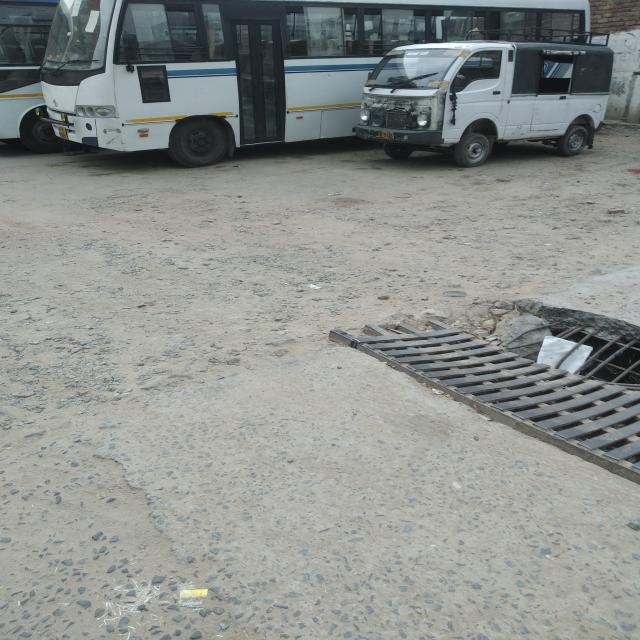Bus: (54, 0, 330, 164)
cars: (370, 44, 620, 172)
